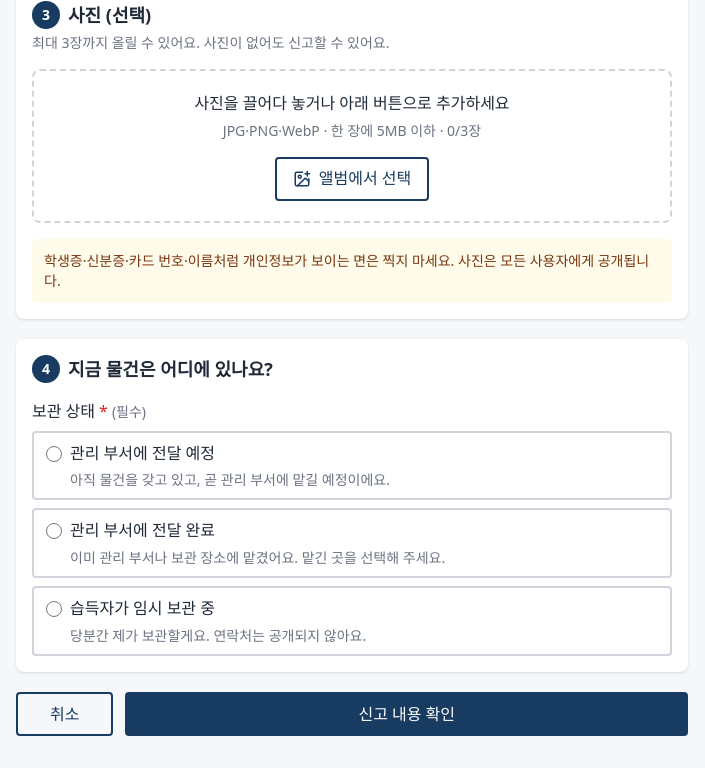
ReportFoundPage › 관리 부서에 전달 완료를 고르면 보관 장소 선택이 나타난다
(page scrolled)
Expected: the field labelled "맡긴 보관 장소" is not shown
What coordinates should you click on to do the following:
click the radio button labelled "관리 부서에 전달 완료 이미 관리 부서나 보관 장소에 맡겼어요. 맡긴 곳을 선택해 주세요."
I would click on:
 (54, 531)
Its box is [46,523,62,539].
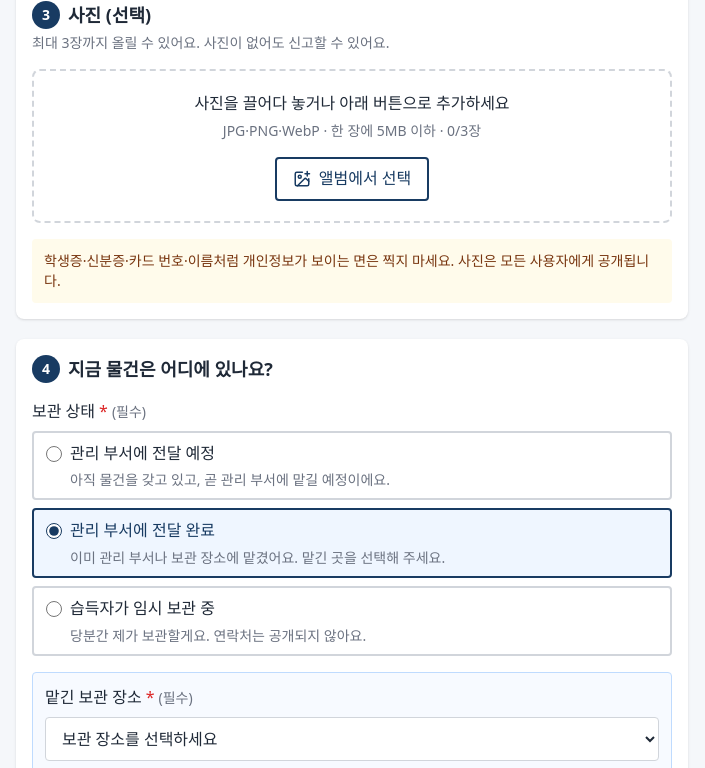
Now the dropdown labelled "맡긴 보관 장소*(필수)" is shown, box [45,717,659,761]
